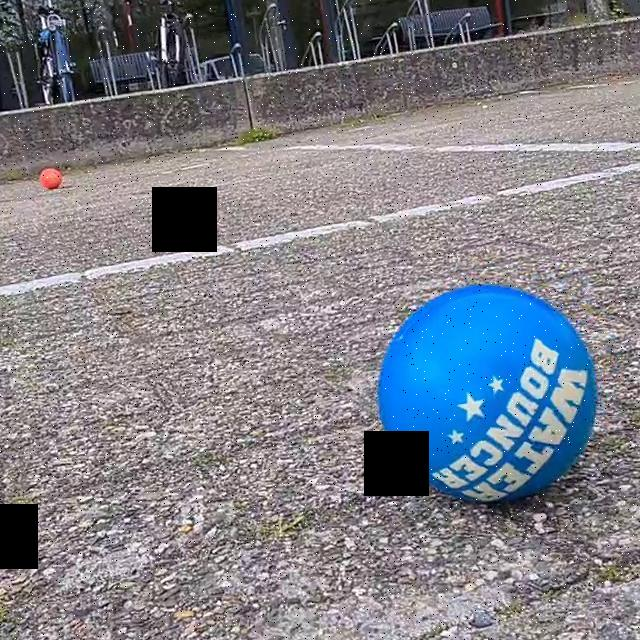ball: (39, 167, 61, 191)
